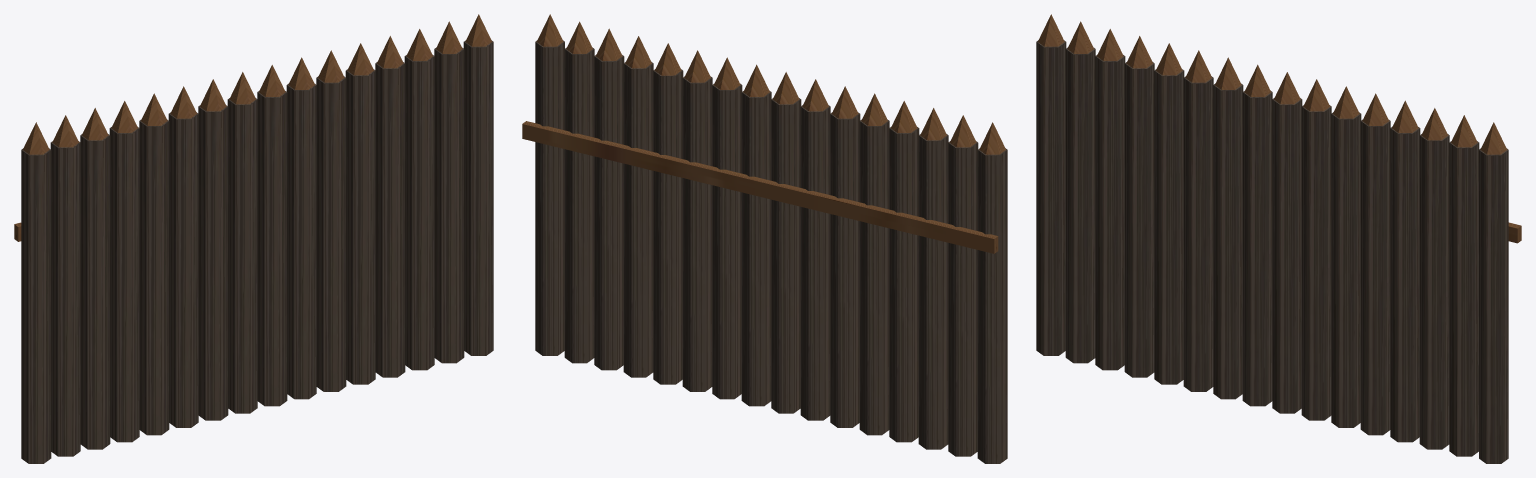
The model's file is palisade_4m.glb.
The picture shows the model from 3 angles, left to right: view 1: azimuth 30°, elevation 25°; view 2: azimuth 150°, elevation 25°; view 3: azimuth 330°, elevation 25°; orthographic projection.
Parts seen in each view (by area): view 1: Palisade_4m; view 2: Palisade_4m; view 3: Palisade_4m.
Part boxes in pixels (bbox=[...]): Palisade_4m: bbox=[14, 14, 493, 463]; Palisade_4m: bbox=[522, 14, 1007, 463]; Palisade_4m: bbox=[1036, 14, 1521, 463].
Bounding box in the file's own units: 4 × 2.72 × 0.2598.
2 materials, 2 textured.
